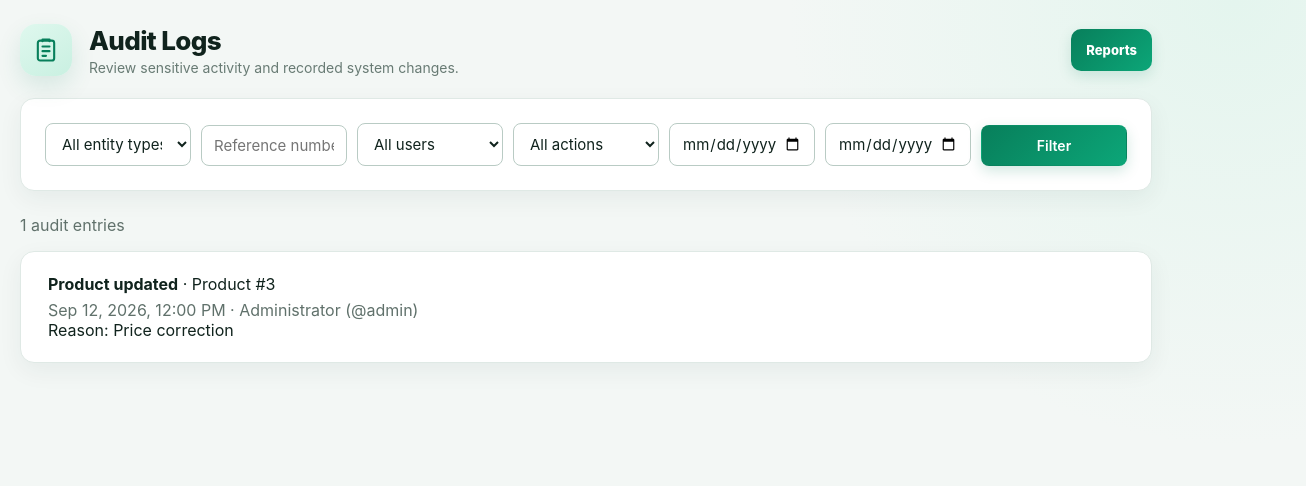
it: AuditLogsPage › shows an immutable entry and expands its before/after snapshots
The image size is (1306, 486).
Check: the text "1 audit entries" is shown, box [20,215,125,235]
Click the button "Product updated" at (113, 284), box [35,266,1137,348]
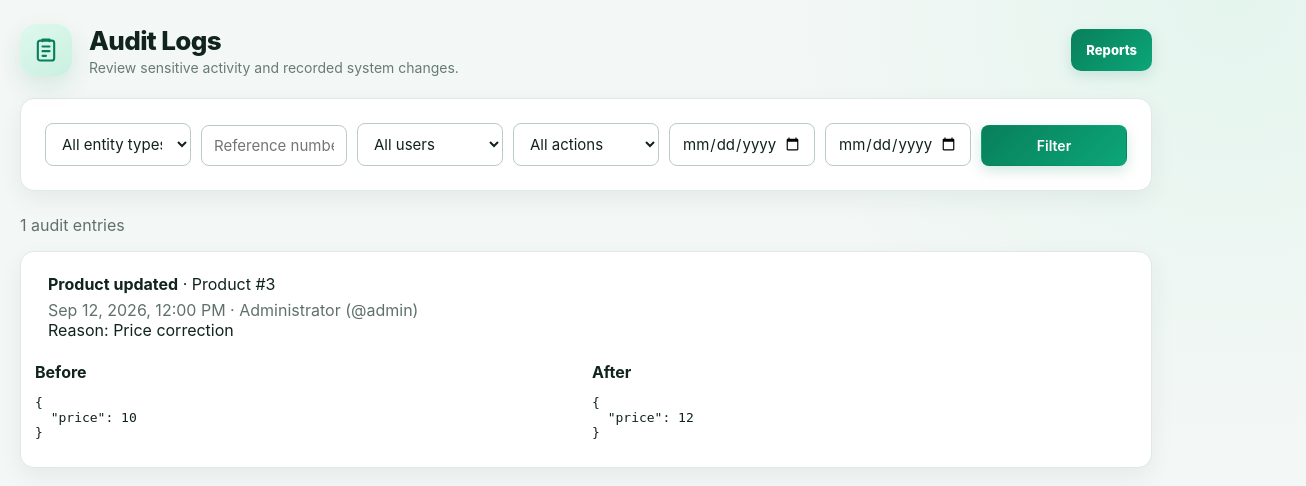
Check: the text "Before" is shown, box [35,362,87,382]
Check: the text "{ \"price\": 10 }" is shown, box [35,395,137,440]
